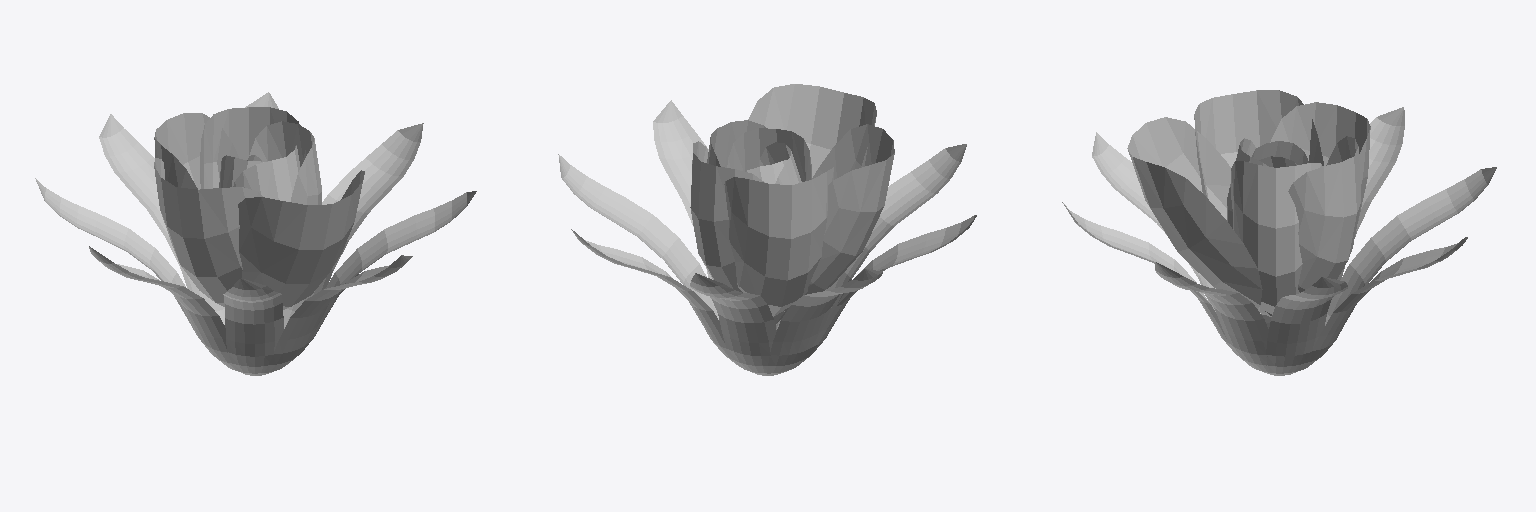
Rendered from FlowerTopModel_03_seq_0025.obj.
3 views of the same model, side by side, from view 1: azimuth 30°, elevation 25°; view 2: azimuth 150°, elevation 25°; view 3: azimuth 270°, elevation 25° (orthographic).
Visible parts, largest first — view 1: FlowerTopModel_03; view 2: FlowerTopModel_03; view 3: FlowerTopModel_03.
Boxes of the visible parts, <box> form: FlowerTopModel_03: <box>35,92,476,375</box>; FlowerTopModel_03: <box>558,84,976,375</box>; FlowerTopModel_03: <box>1062,90,1496,375</box>.
Bounding box in the file's own units: 610 × 360 × 610.